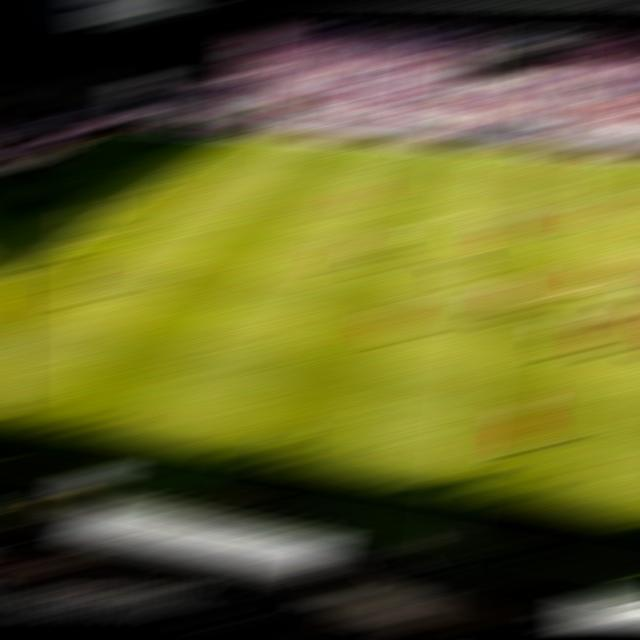bigarea_top_inner: (171, 159, 207, 166)
bigarea_top_outter: (54, 148, 90, 155)
bottom_arc_area_intersection: (49, 237, 86, 248)
corner: (107, 126, 144, 133)
halfcircle_bottom: (467, 293, 503, 300)
halfcircle_top: (480, 213, 516, 220)
midline_bottom_intersection: (431, 532, 468, 542)
midline_top_intersection: (488, 149, 524, 156)
smallarea_top_inner: (41, 178, 77, 185)
smallarea_top_outter: (0, 172, 31, 179)
top_arc_area_intersection: (125, 187, 162, 196)
